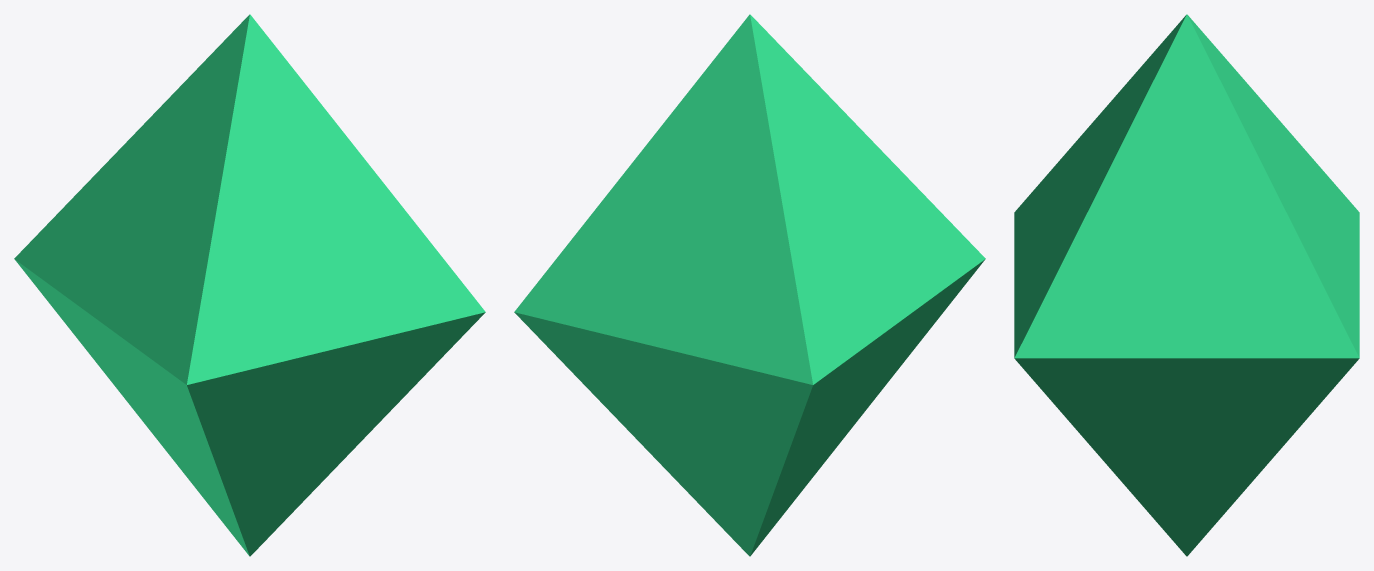
Rendered from diamond green.glb.
3 renders of one model, left to right at view 1: azimuth 30°, elevation 25°; view 2: azimuth 150°, elevation 25°; view 3: azimuth 270°, elevation 25°, orthographic.
Parts seen in each view (by area): view 1: diamond; view 2: diamond; view 3: diamond.
Part boxes in pixels (x1,y1,x2,y2): diamond: [14, 14, 485, 556]; diamond: [514, 14, 985, 556]; diamond: [1014, 14, 1359, 556].
Size of what is drawn, in the model's own units: 0.5 by 0.8674 by 0.5.
